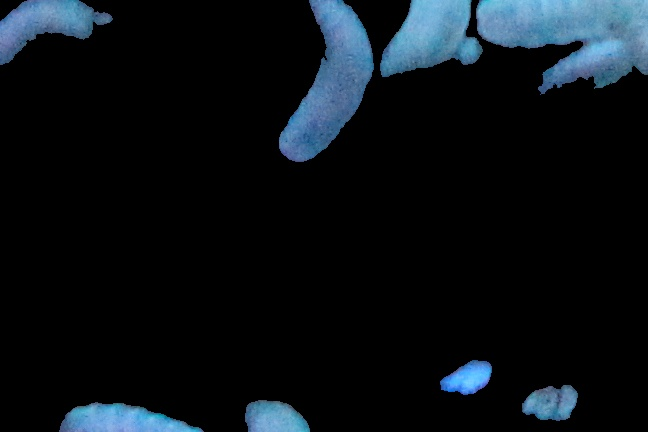larvae: (268, 1, 374, 161), (512, 32, 647, 111), (1, 1, 112, 90), (379, 1, 472, 88), (476, 1, 648, 47), (49, 397, 209, 432)
